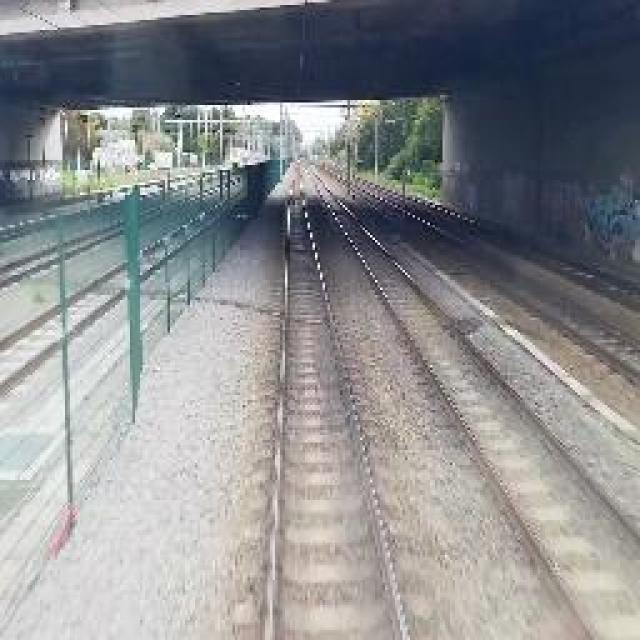rail: (231, 160, 450, 640)
